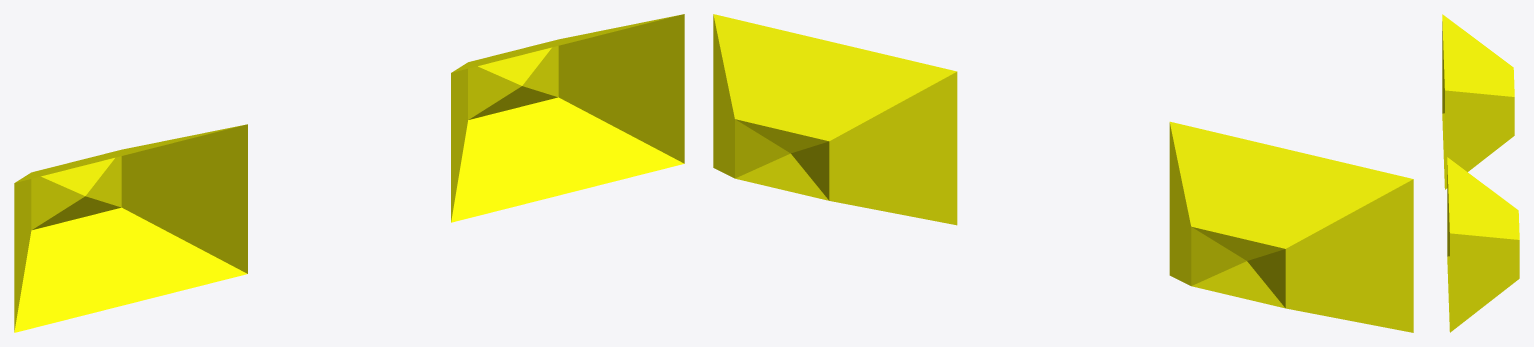
The model's file is light.013.fbx.
3 views of the same model, side by side, from view 1: azimuth 30°, elevation 25°; view 2: azimuth 150°, elevation 25°; view 3: azimuth 270°, elevation 25° (orthographic). The views are drawn at different scales.
Parts seen in each view (by area): view 1: light.013; view 2: light.013; view 3: light.013.
Boxes of the visible parts, x1,y1,x2,y2 form: light.013: (14, 14, 684, 332); light.013: (713, 14, 1413, 332); light.013: (1442, 14, 1519, 332).
Bounding box in the file's own units: 44.47 × 298 × 63.06.
